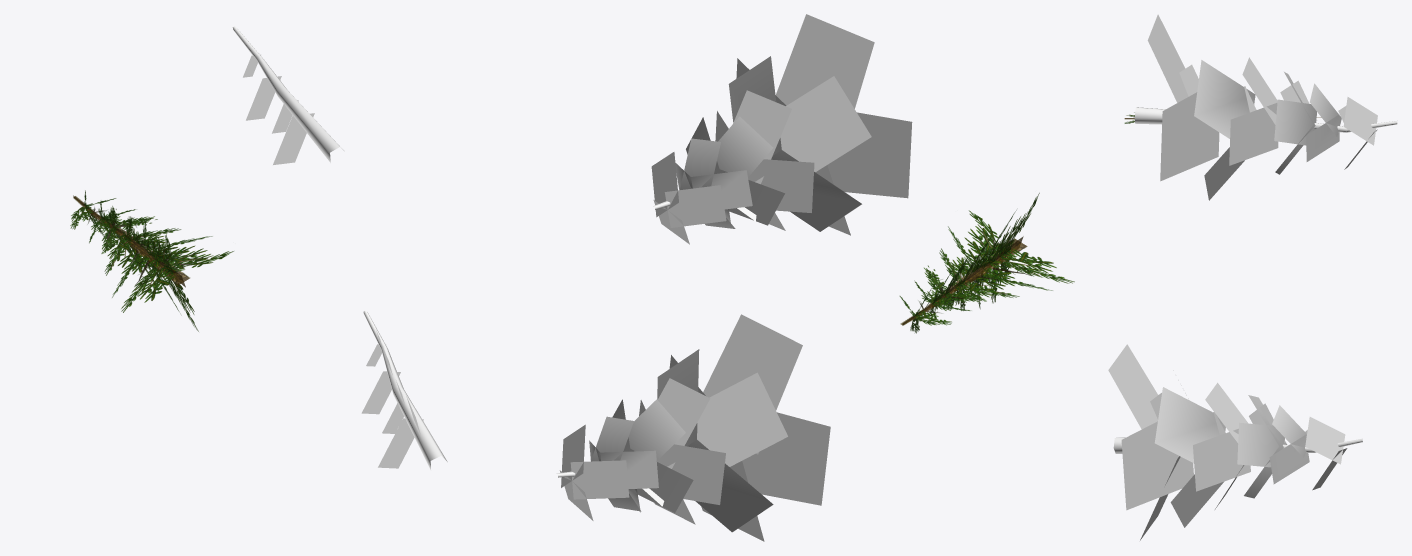
Rendered from mountainTrees2.glb.
3 views of the same model, side by side, from view 1: azimuth 30°, elevation 25°; view 2: azimuth 150°, elevation 25°; view 3: azimuth 270°, elevation 25° (orthographic). The views are drawn at different scales.
Visible parts, largest first — view 1: tree_1Low.png__, wooden2.png__, wooden.png__; view 2: tree_1.png__, tree_1Low.png__; view 3: tree_1.png__, wooden2.png__, wooden.png__.
Boxes of the visible parts, <box> form: tree_1Low.png__: <box>70,190,233,331</box>; wooden2.png__: <box>243,54,423,468</box>; wooden.png__: <box>232,26,447,469</box>; tree_1.png__: <box>559,14,912,541</box>; tree_1Low.png__: <box>899,193,1074,333</box>; tree_1.png__: <box>1108,14,1377,540</box>; wooden2.png__: <box>1150,64,1346,442</box>; wooden.png__: <box>1113,107,1397,453</box>.
Bounding box in the file's own units: 26.71 × 32.57 × 18.56.
4 materials, 1 textured.
